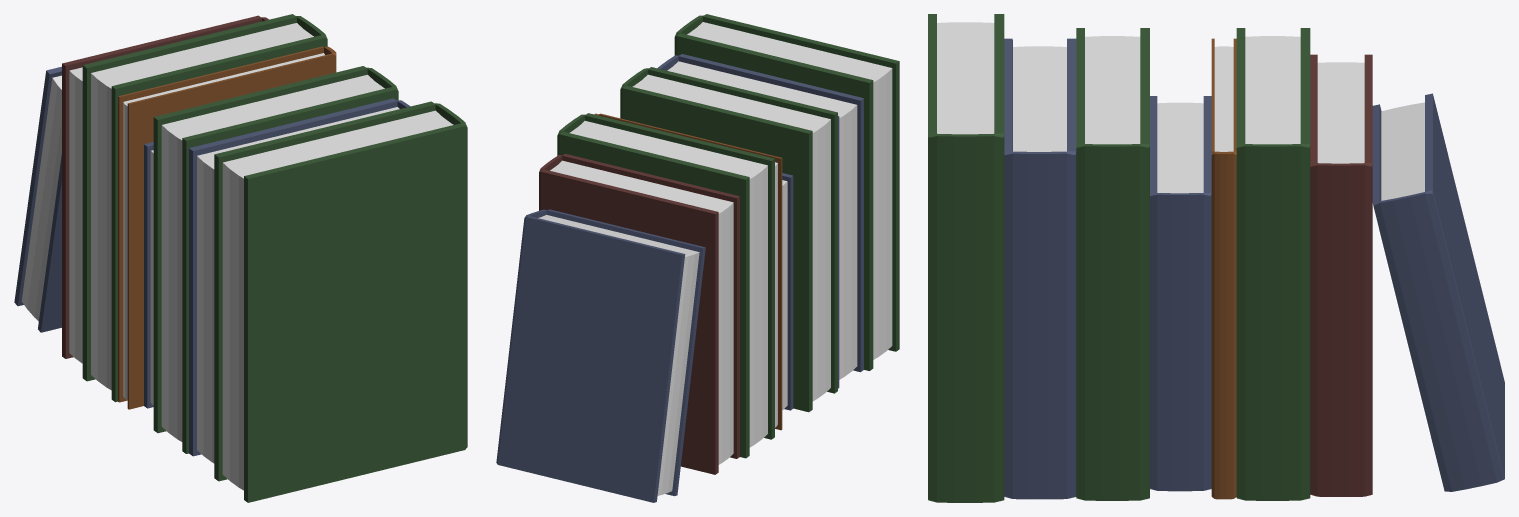
File: VJ_L_PackLlibres_03.fbx
The picture shows the model from 3 angles, left to right: view 1: azimuth 30°, elevation 25°; view 2: azimuth 150°, elevation 25°; view 3: azimuth 270°, elevation 25°; orthographic projection. The views are drawn at different scales.
Visible parts, largest first — view 1: L_PackLlibres_03; view 2: L_PackLlibres_03; view 3: L_PackLlibres_03.
Part boxes in pixels (bbox=[...]): L_PackLlibres_03: bbox=[14, 14, 467, 502]; L_PackLlibres_03: bbox=[496, 14, 899, 502]; L_PackLlibres_03: bbox=[928, 14, 1504, 502].
Size of the model in its own units: 3.56 by 4.99 by 7.07.
